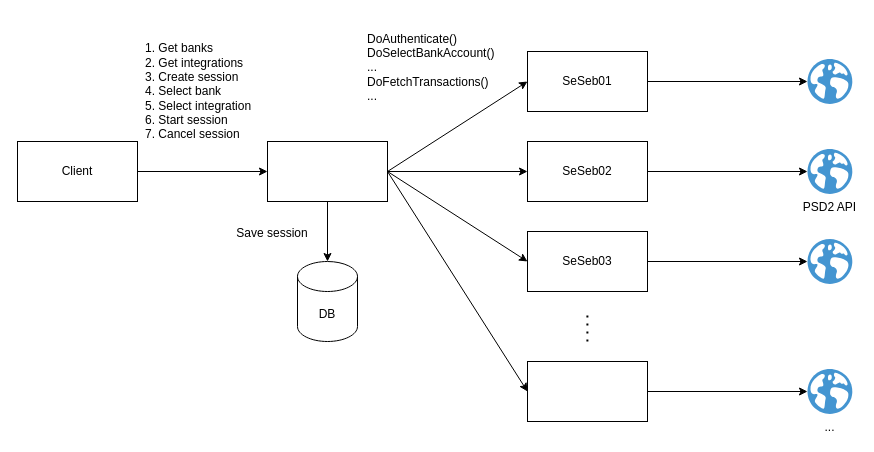
Image size: 874x452. Some labels were removed from this diagram. The centre of each missing label's shape, as x and y in pixels:
"Client API" goes at point 829,261.
"SeSeb0NIntegration" goes at point 587,391.
"Sessions" goes at point 327,171.
"Web API" goes at point 829,81.
